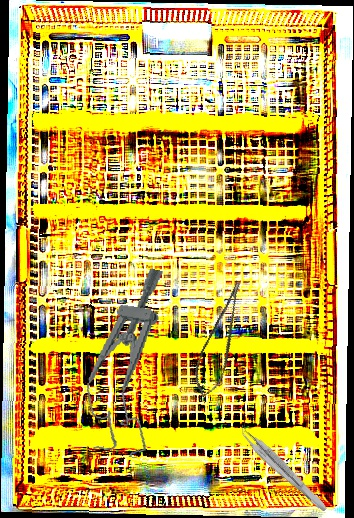Micro Scissor: (184, 278, 262, 401)
Speculum: (76, 261, 177, 460)
Tissue Forceps: (233, 422, 334, 514)
